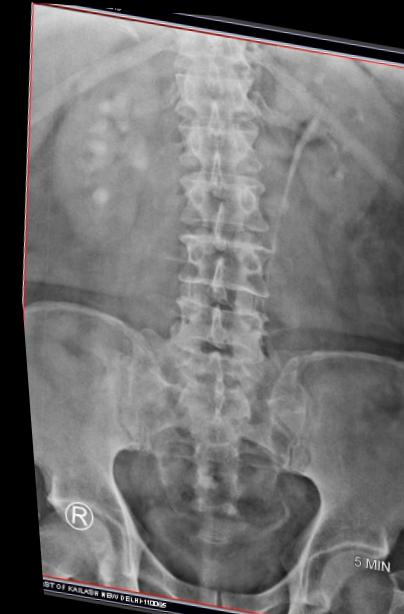left kidney: (266, 30, 403, 229)
right kidney: (29, 29, 173, 255)
vertebrae: (168, 52, 269, 116)
